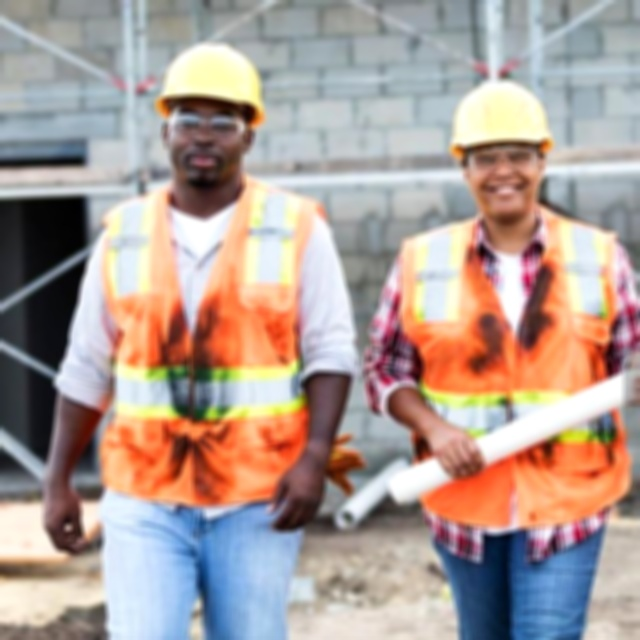Con_Casco: (153, 43, 263, 185), (451, 80, 551, 217)
Con_Chaleco: (404, 210, 635, 510), (106, 180, 316, 505)
